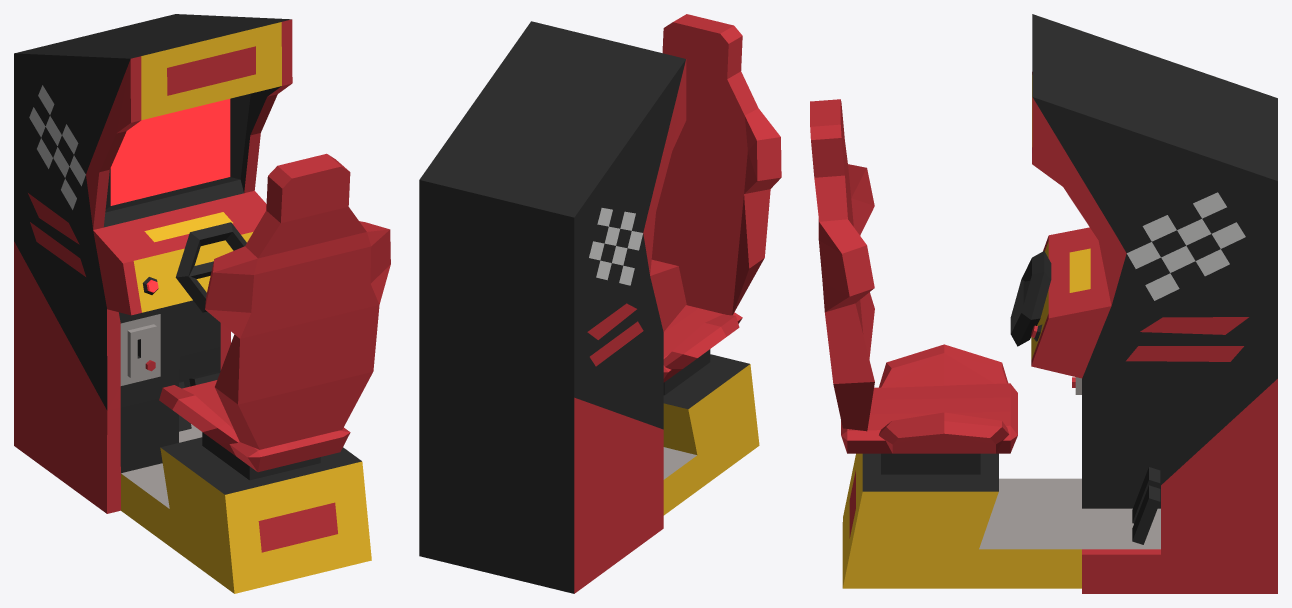
The model's file is electronics-arcade-machine-race.glb.
3 renders of one model, left to right at view 1: azimuth 30°, elevation 25°; view 2: azimuth 150°, elevation 25°; view 3: azimuth 270°, elevation 25°, orthographic. The views are drawn at different scales.
Visible parts, largest first — view 1: arcade-machine-race; view 2: arcade-machine-race; view 3: arcade-machine-race.
Part boxes in pixels (x1=…): arcade-machine-race: x1=14, y1=14, x2=390, y2=593; arcade-machine-race: x1=419, y1=14, x2=781, y2=593; arcade-machine-race: x1=810, y1=14, x2=1277, y2=593.
Bounding box in the file's own units: 0.734 × 1.78 × 1.52.
